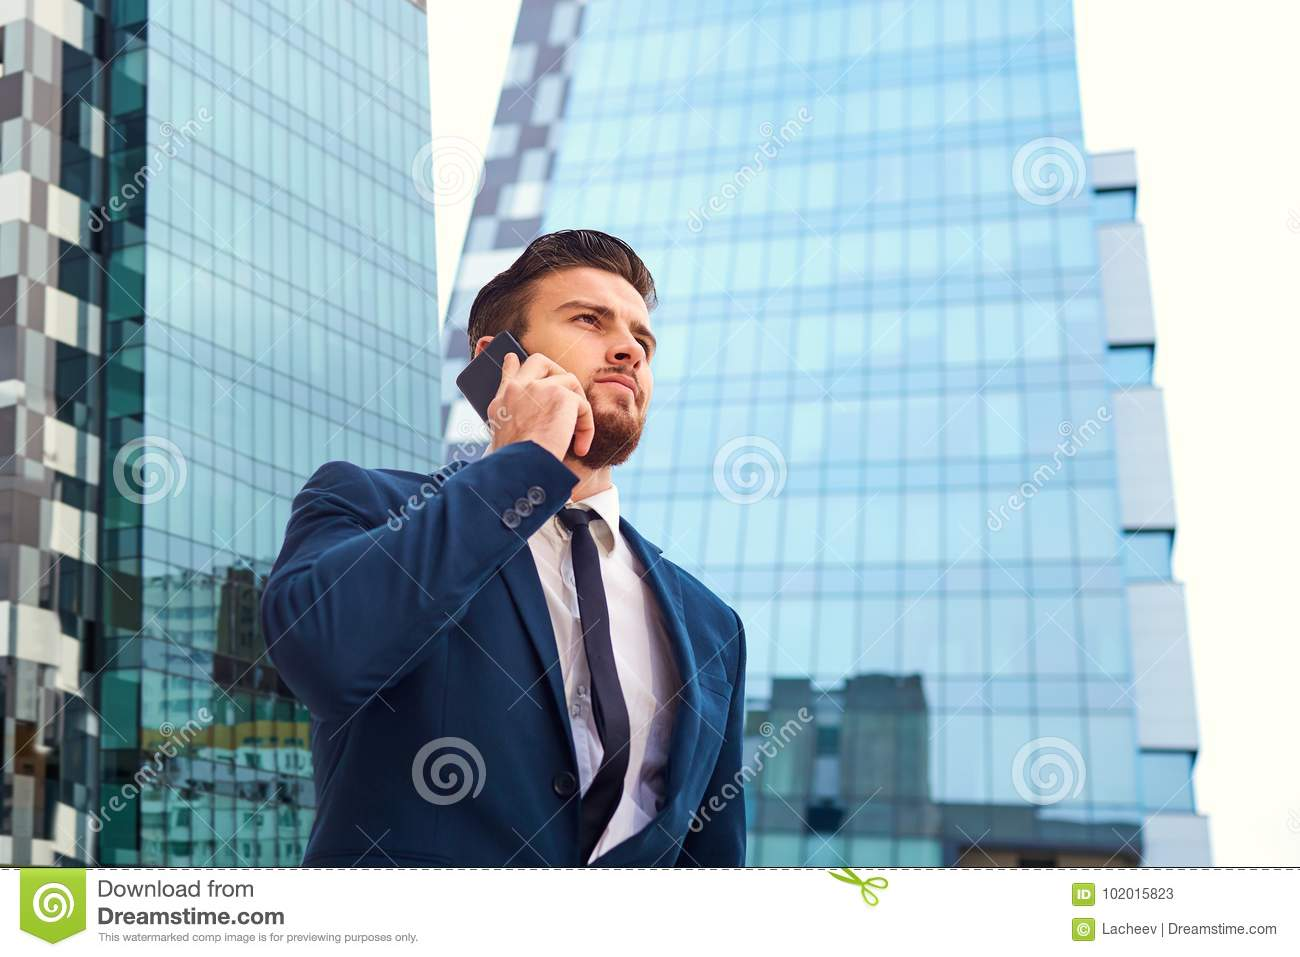phone: (458, 332, 578, 451)
talk: (455, 296, 660, 481)
